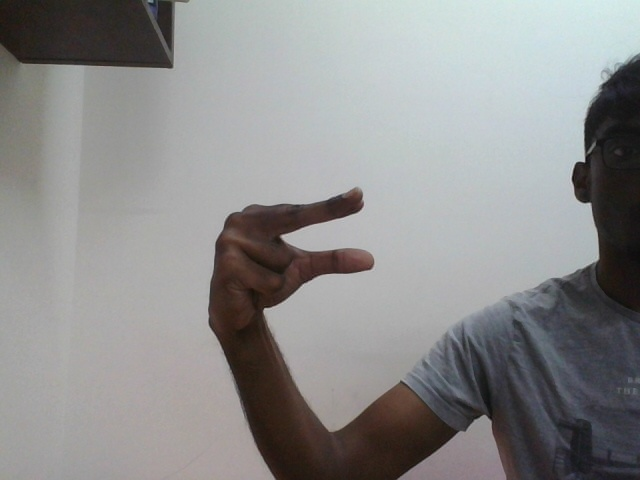No: (231, 186, 376, 274)
